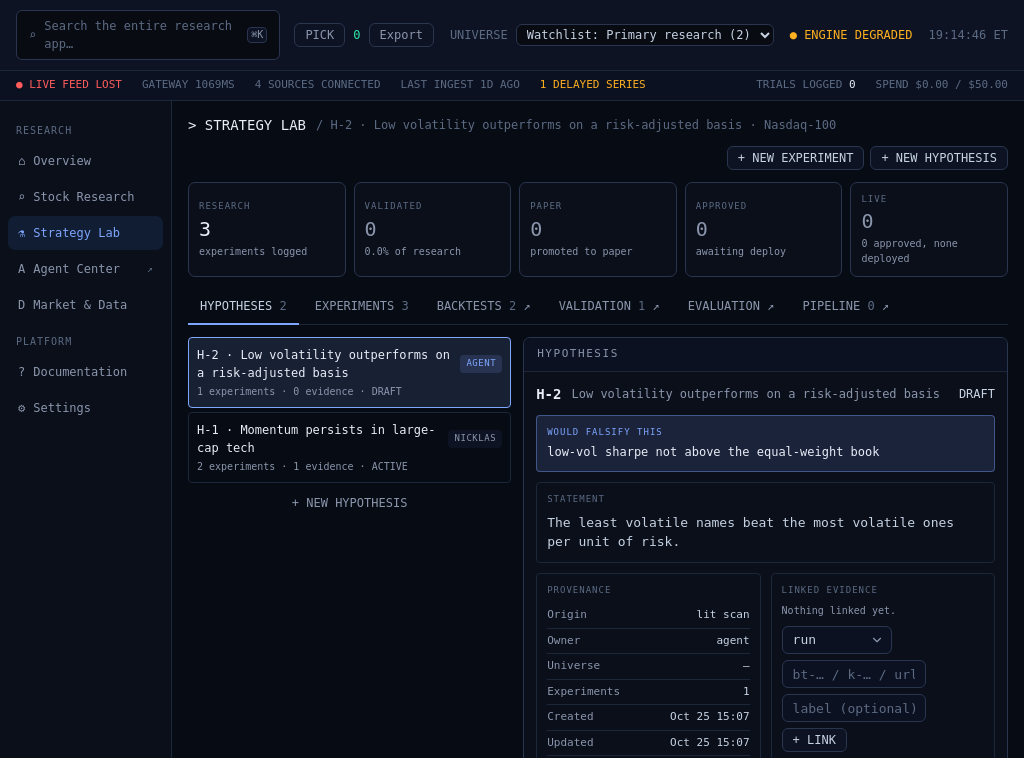
Test case: the frame › filters the experiments to a funnel stage, and clears it
The width and height of the screenshot is (1024, 758).
Click the button "VALIDATED 0 0.0% of research" at (432, 229), box [354,182,511,277]
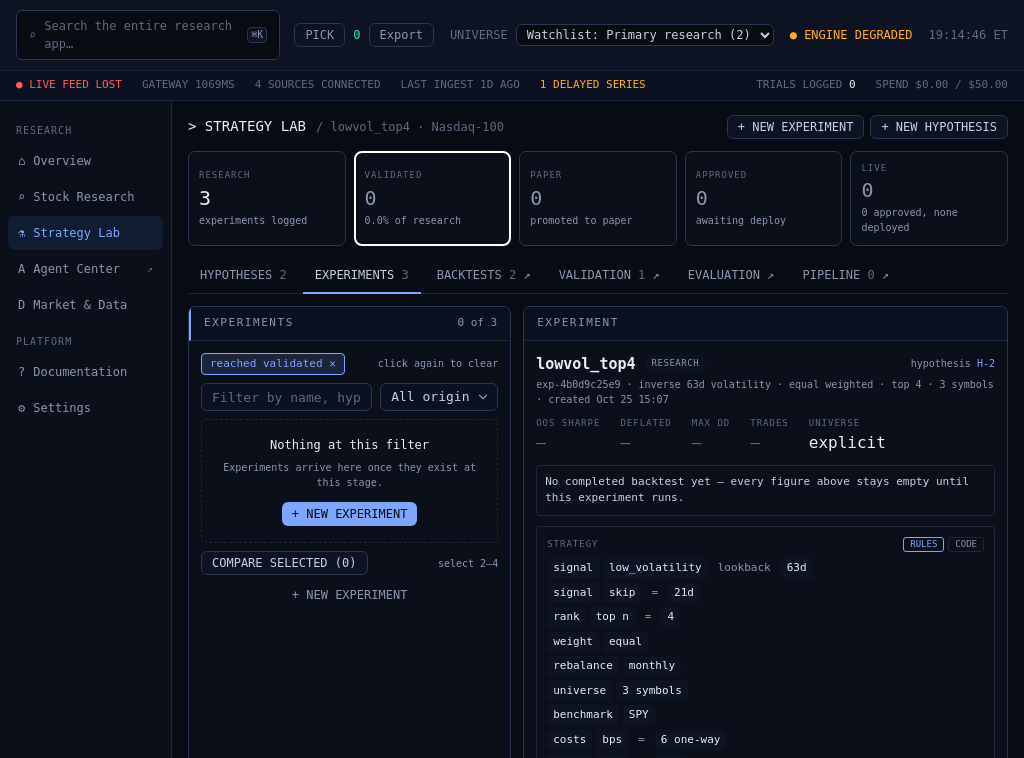
Expected: the text "Nothing at this filter" is shown, [270,438,429,452]
Expected: the text "0 of 3" is shown, [457,315,497,332]
Click the button "reached validated ✕" at (273, 364), box [201,352,345,375]
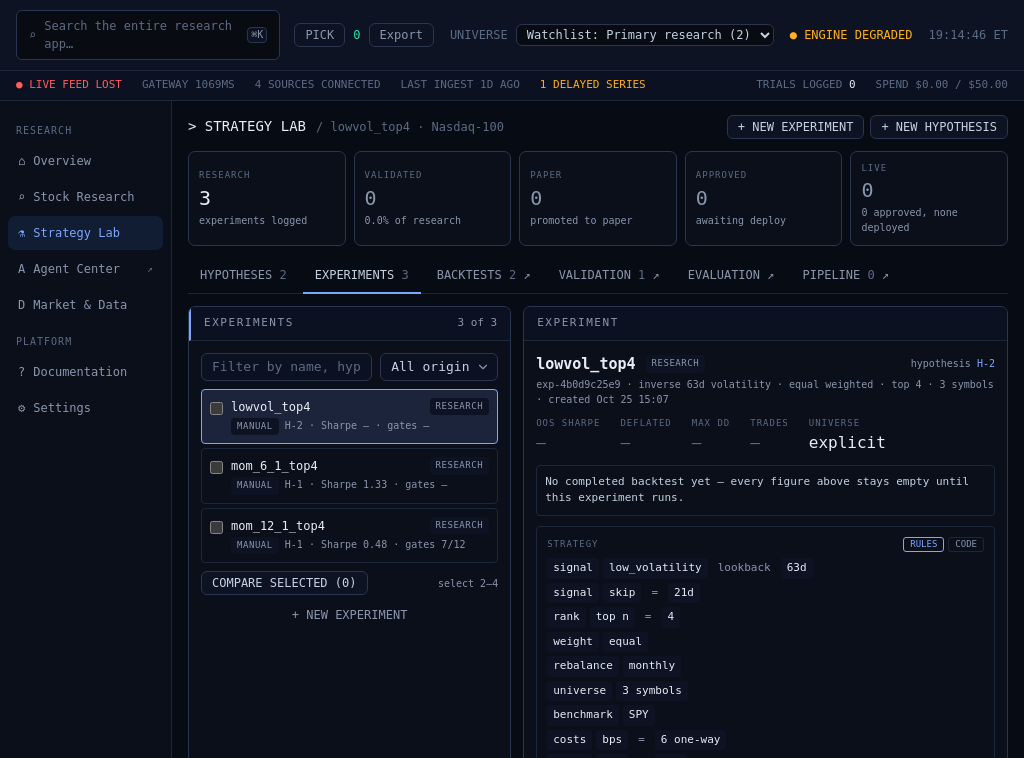
Expected: the text "3 of 3" is shown, [457,315,497,332]
